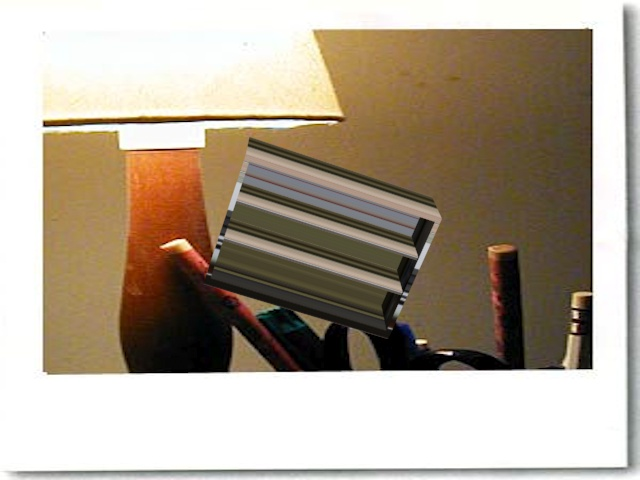bookcase: (193, 129, 448, 344)
